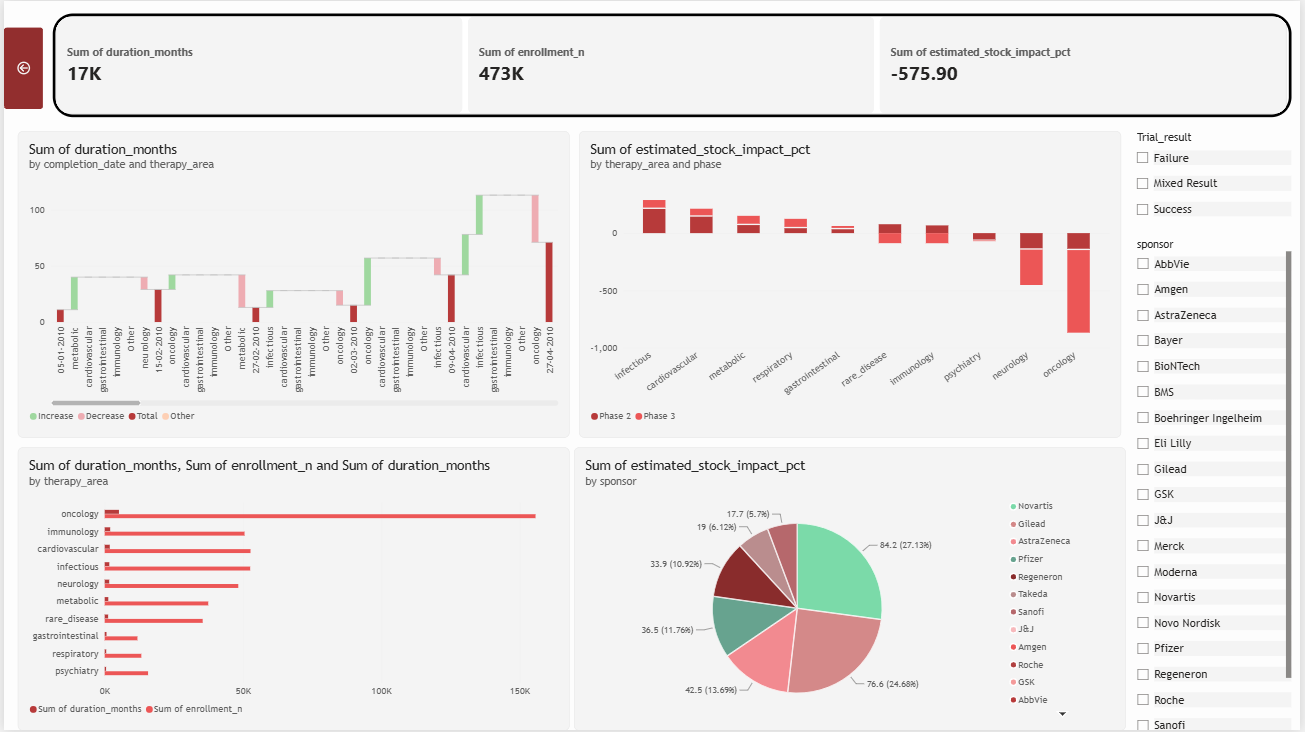

Layout of this report page (visuals, bound fields, positions):
{"tool":"powerbi","page":{"name":"clinical_Analsis","canvas":[1920,1080],"ordinal":4},"visuals":[{"type":"waterfallChart","fields":{"Category":["Clinical_trail.completion_date"],"Y":["Sum(Clinical_trail.duration_months)"],"Breakdown":["Clinical_trail.therapy_area"]},"box":[19.9,191.8,818,454.2],"z":0},{"type":"lineStackedColumnComboChart","fields":{"Y":["Sum(Clinical_trail.estimated_stock_impact_pct)"],"Category":["Clinical_trail.therapy_area"],"Series":["Clinical_trail.phase"]},"box":[852.4,191.8,803.5,454.2],"z":1000},{"type":"clusteredBarChart","fields":{"Category":["Clinical_trail.therapy_area"],"Y":["Sum(Clinical_trail.duration_months)","Sum(Clinical_trail.enrollment_n)"]},"box":[19.9,660.5,818,419.8],"z":2000},{"type":"pieChart","fields":{"Category":["Clinical_trail.sponsor"],"Y":["Sum(Clinical_trail.estimated_stock_impact_pct)"]},"box":[845.1,660.5,818,419.8],"z":3000},{"type":"cardVisual","fields":{"Data":["Sum(Clinical_trail.duration_months)","Sum(Clinical_trail.enrollment_n)","Sum(Clinical_trail.estimated_stock_impact_pct)"]},"box":[72.4,18.1,1835,153.8],"z":4000},{"type":"slicer","fields":{"Values":["Clinical_trail.Trial_result"]},"box":[1670.3,191.8,237.1,157.4],"z":5000},{"type":"slicer","fields":{"Values":["Clinical_trail.sponsor"]},"box":[1670.3,349.3,237.1,731.1],"z":6000},{"type":"actionButton","box":[0,38,57.9,121.2],"z":7000}]}

Visuals, with their boxes in screenshot pixels (x1, y1, x2, y2), scaled from the page's 1920x1080 canvas onto the 1305x732 screenshot:
waterfallChart - Clinical_trail.completion_date x Sum(Clinical_trail.duration_months): x1=14, y1=130, x2=570, y2=438
lineStackedColumnComboChart - Sum(Clinical_trail.estimated_stock_impact_pct) x Clinical_trail.therapy_area: x1=579, y1=130, x2=1125, y2=438
clusteredBarChart - Clinical_trail.therapy_area x Sum(Clinical_trail.duration_months): x1=14, y1=448, x2=570, y2=731
pieChart - Clinical_trail.sponsor x Sum(Clinical_trail.estimated_stock_impact_pct): x1=574, y1=448, x2=1130, y2=731
cardVisual - Sum(Clinical_trail.duration_months) x Sum(Clinical_trail.enrollment_n): x1=49, y1=12, x2=1296, y2=117
slicer - Clinical_trail.Trial_result: x1=1135, y1=130, x2=1296, y2=237
slicer - Clinical_trail.sponsor: x1=1135, y1=237, x2=1296, y2=731
actionButton: x1=0, y1=26, x2=39, y2=108
